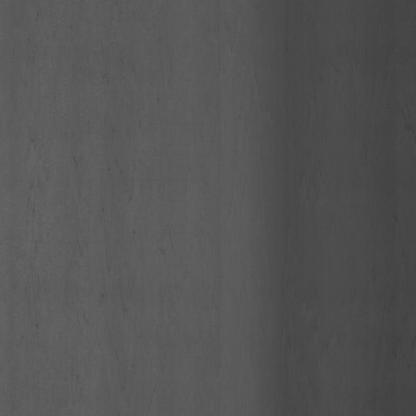silk_spot: (35, 68, 147, 304)
